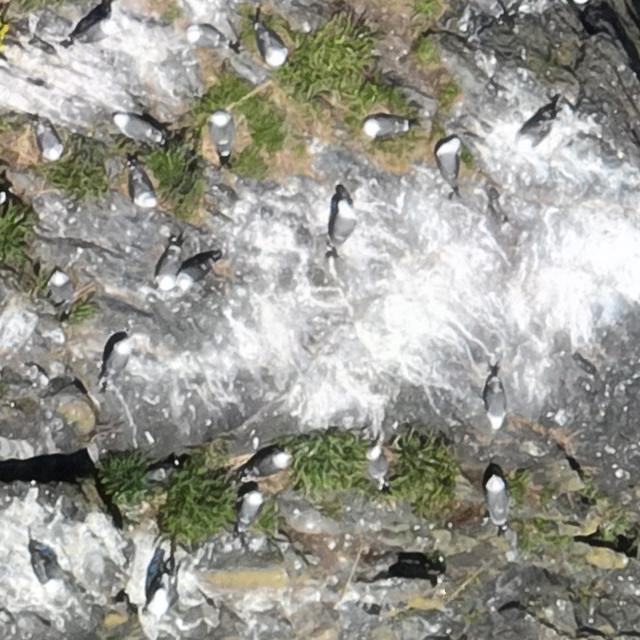umineko: (517, 106, 560, 154), (30, 548, 67, 601), (180, 254, 217, 295), (116, 114, 162, 145), (156, 243, 181, 297), (130, 170, 160, 207), (47, 269, 74, 308), (332, 203, 353, 248), (260, 32, 286, 67), (438, 142, 459, 182), (488, 479, 508, 520), (368, 447, 389, 485), (488, 385, 507, 427), (250, 455, 286, 477), (108, 340, 130, 375), (364, 118, 404, 137), (214, 115, 233, 154), (40, 127, 62, 158), (239, 494, 260, 525), (188, 27, 222, 46)
